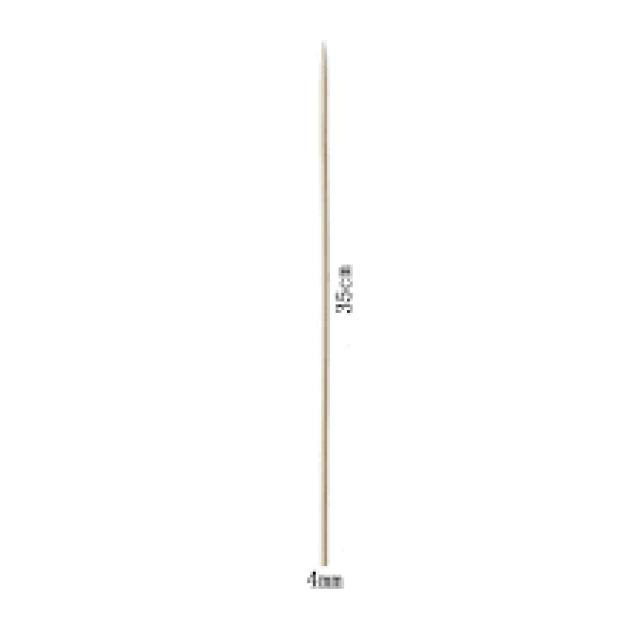stick: (320, 41, 328, 566)
